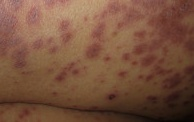SJS-TEN: (84, 0, 193, 113), (0, 59, 107, 121), (0, 0, 78, 67)
